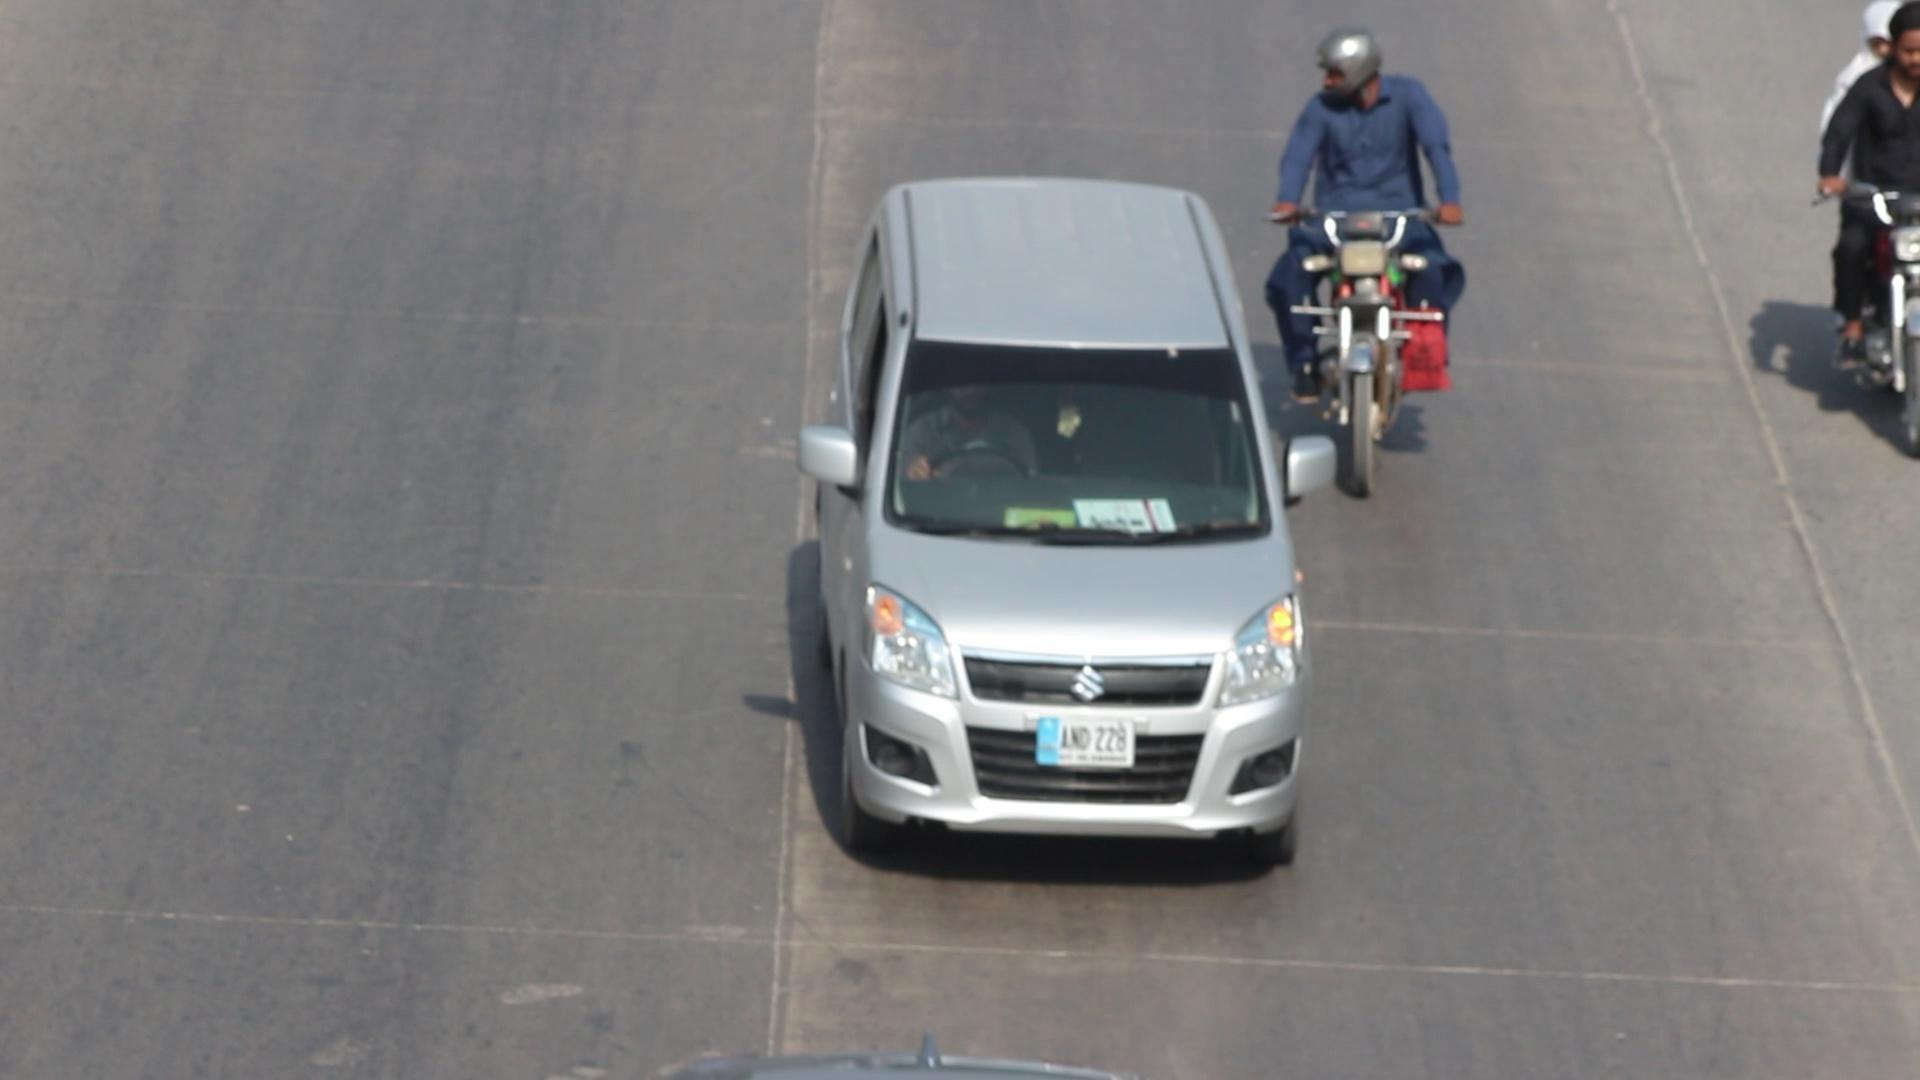windshield: (877, 323, 1298, 541)
